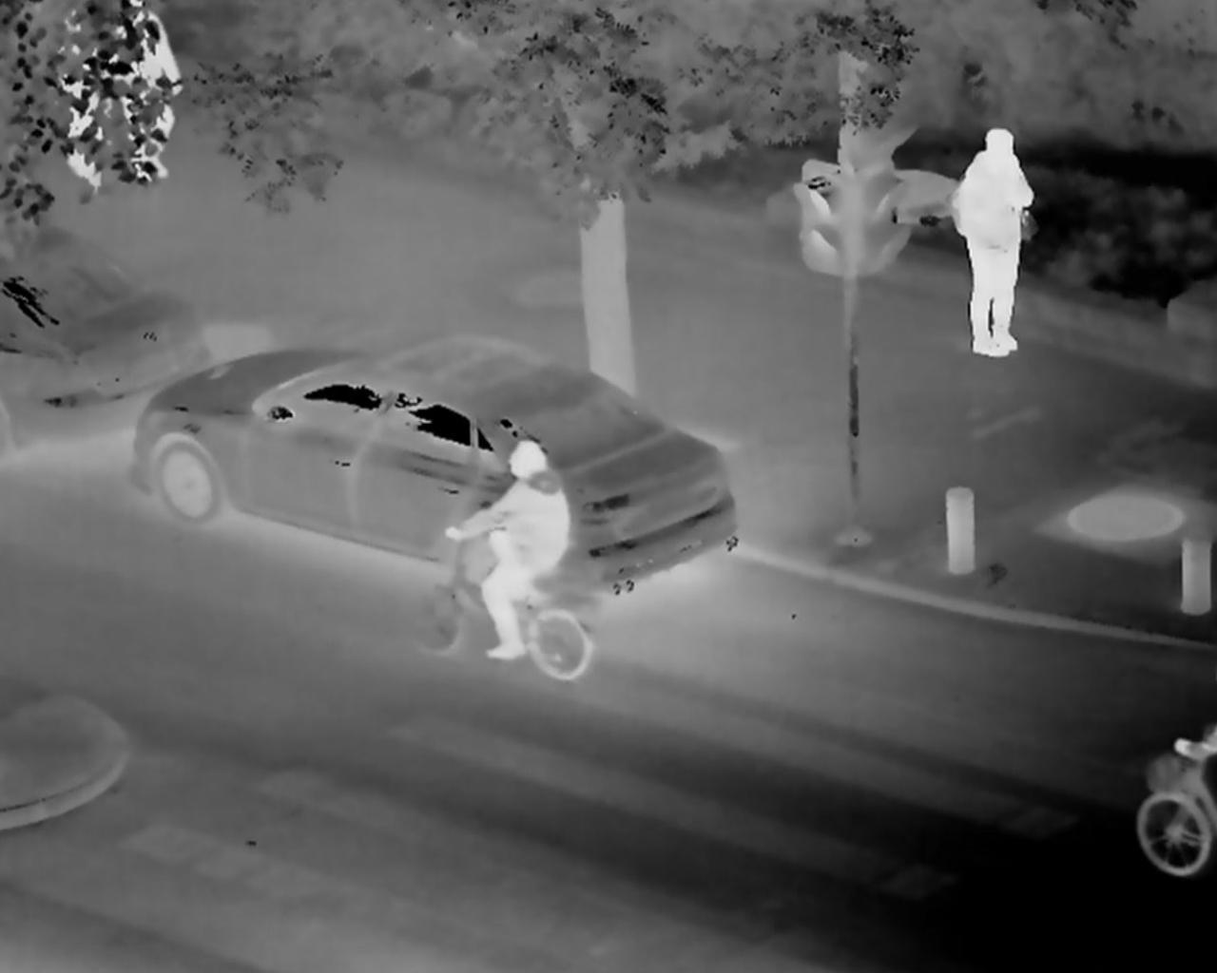person: (450, 432, 581, 670), (935, 116, 1042, 376), (57, 2, 183, 195)
